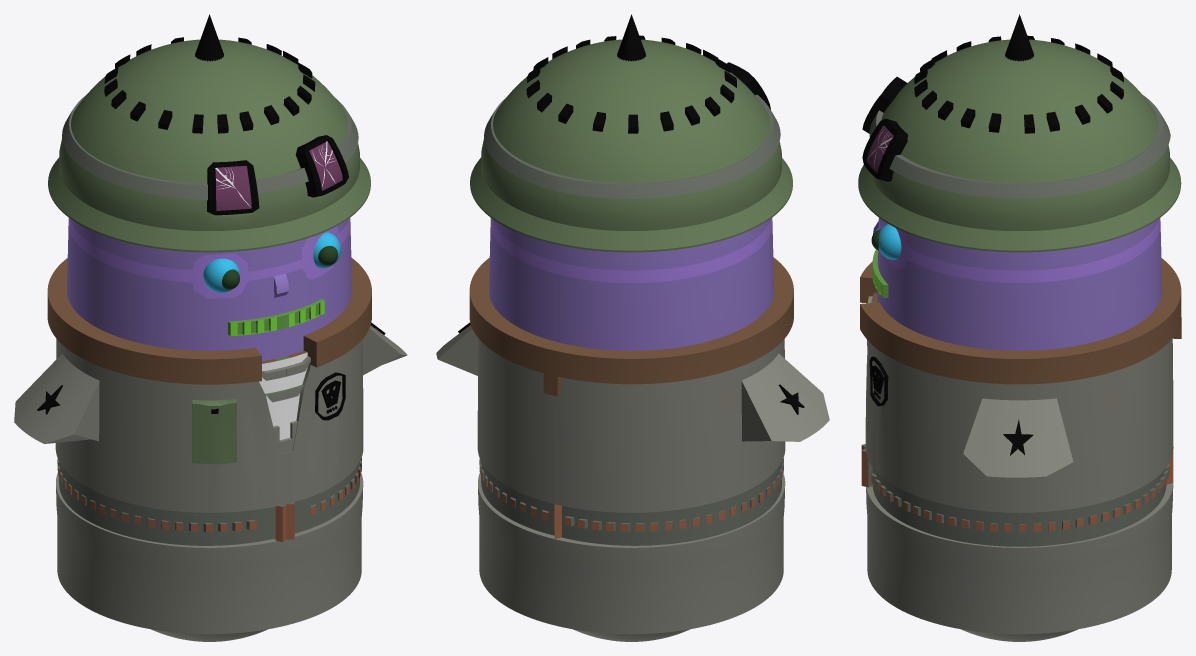
File: Olaf.fbx
3 views of the same model, side by side, from view 1: azimuth 30°, elevation 25°; view 2: azimuth 150°, elevation 25°; view 3: azimuth 270°, elevation 25° (orthographic).
Parts seen in each view (by area): view 1: Sphere, Sphere.001, Sphere.002; view 2: Sphere; view 3: Sphere, Sphere.001.
Boxes of the visible parts, <box> form: Sphere: <box>14,14,407,641</box>; Sphere.001: <box>203,232,340,292</box>; Sphere.002: <box>222,246,337,289</box>; Sphere: <box>436,14,829,641</box>; Sphere: <box>858,14,1181,641</box>; Sphere.001: <box>878,224,901,259</box>.
Bounding box in the file's own units: 268 × 427 × 204.
